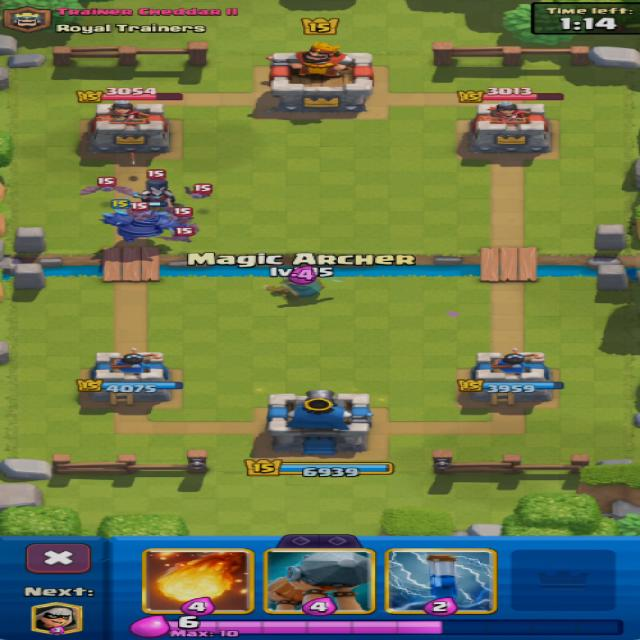Enemy-Bat: (81, 178, 136, 195), (161, 227, 191, 242), (172, 206, 191, 223), (186, 187, 209, 198), (129, 210, 154, 220), (192, 223, 198, 233)
Enemy-KingTower: (269, 43, 372, 115)
Enemy-NightWitch: (134, 178, 174, 208)
Enemy-PrincessTower: (87, 99, 169, 152), (470, 103, 549, 154)
